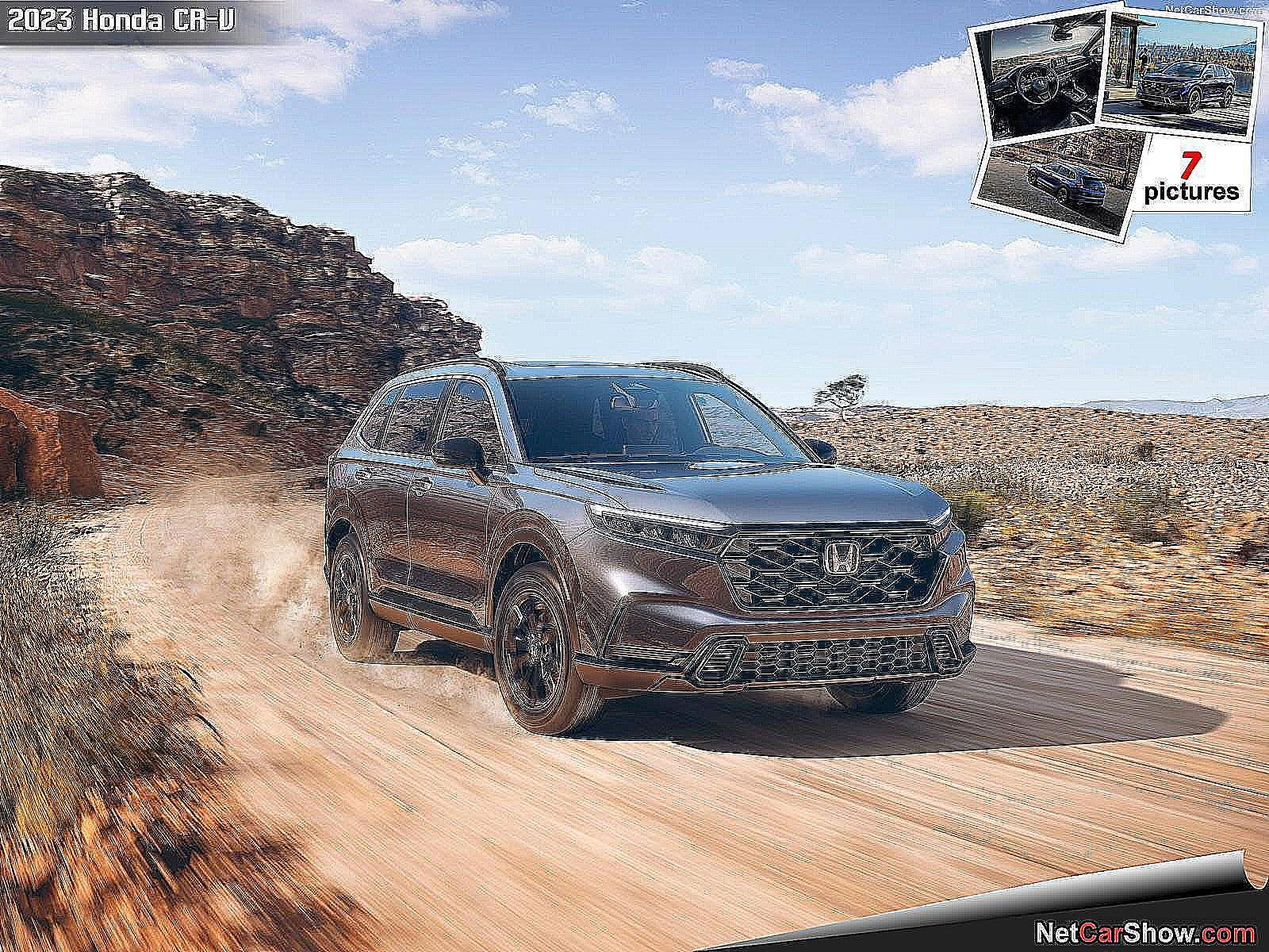Car hood: (528, 456, 949, 528)
Driver-s door - -F-R-: (395, 338, 520, 667)
Fender - -F-R-: (474, 451, 612, 656)
Front bumper: (552, 524, 983, 708)
Headlight - -L-: (926, 503, 950, 559)
Headlight - -R-: (592, 502, 740, 563)
Passenger-s door - -R-R-: (345, 335, 448, 656)
Side bumper - -R-: (362, 576, 499, 670)
Side mirror - -R-: (424, 433, 499, 485)
